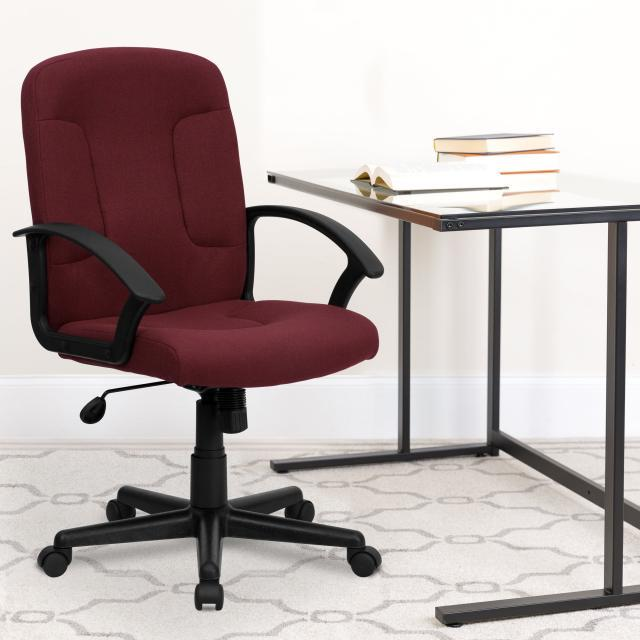chair: (18, 44, 384, 608)
